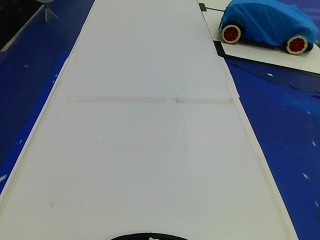car: (215, 0, 318, 52)
